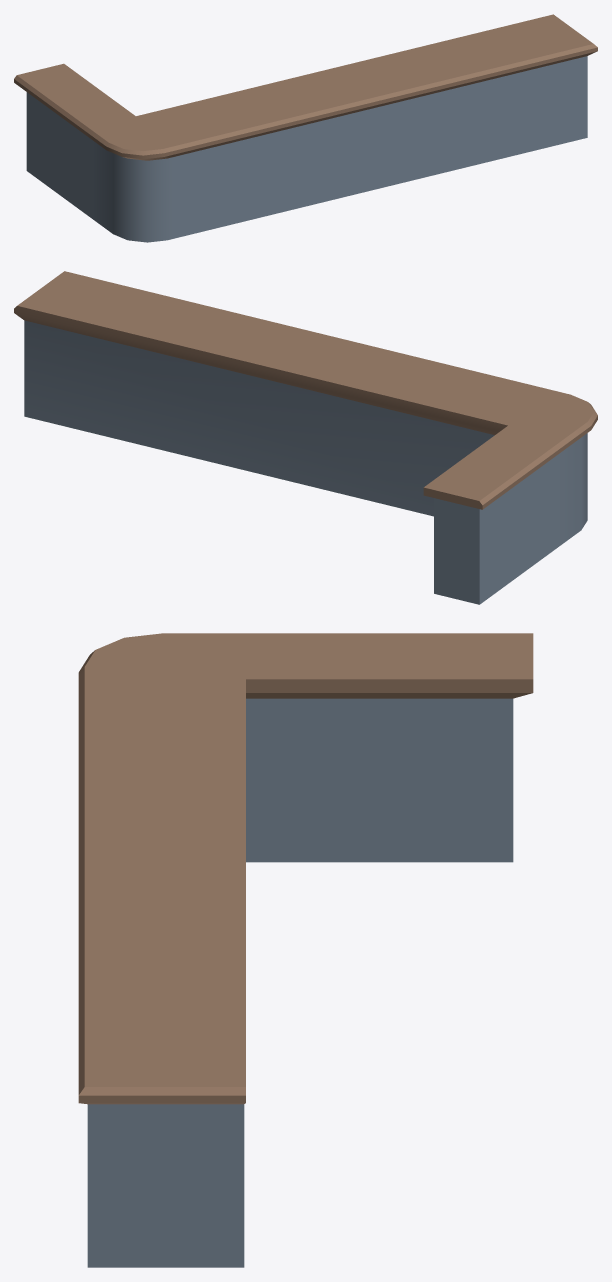
Rendered from Welcome_Desk.fbx.
3 views of the same model, one above another, from view 1: azimuth 30°, elevation 25°; view 2: azimuth 150°, elevation 25°; view 3: azimuth 270°, elevation 25° (orthographic). The views are drawn at different scales.
Parts seen in each view (by area): view 1: Welcome_Desk; view 2: Welcome_Desk; view 3: Welcome_Desk.
Part boxes in pixels (x1,y1,x2,y2): Welcome_Desk: [14, 14, 597, 242]; Welcome_Desk: [14, 271, 597, 604]; Welcome_Desk: [78, 633, 533, 1267].
Size of the model in its own units: 1706 by 323 by 714.
